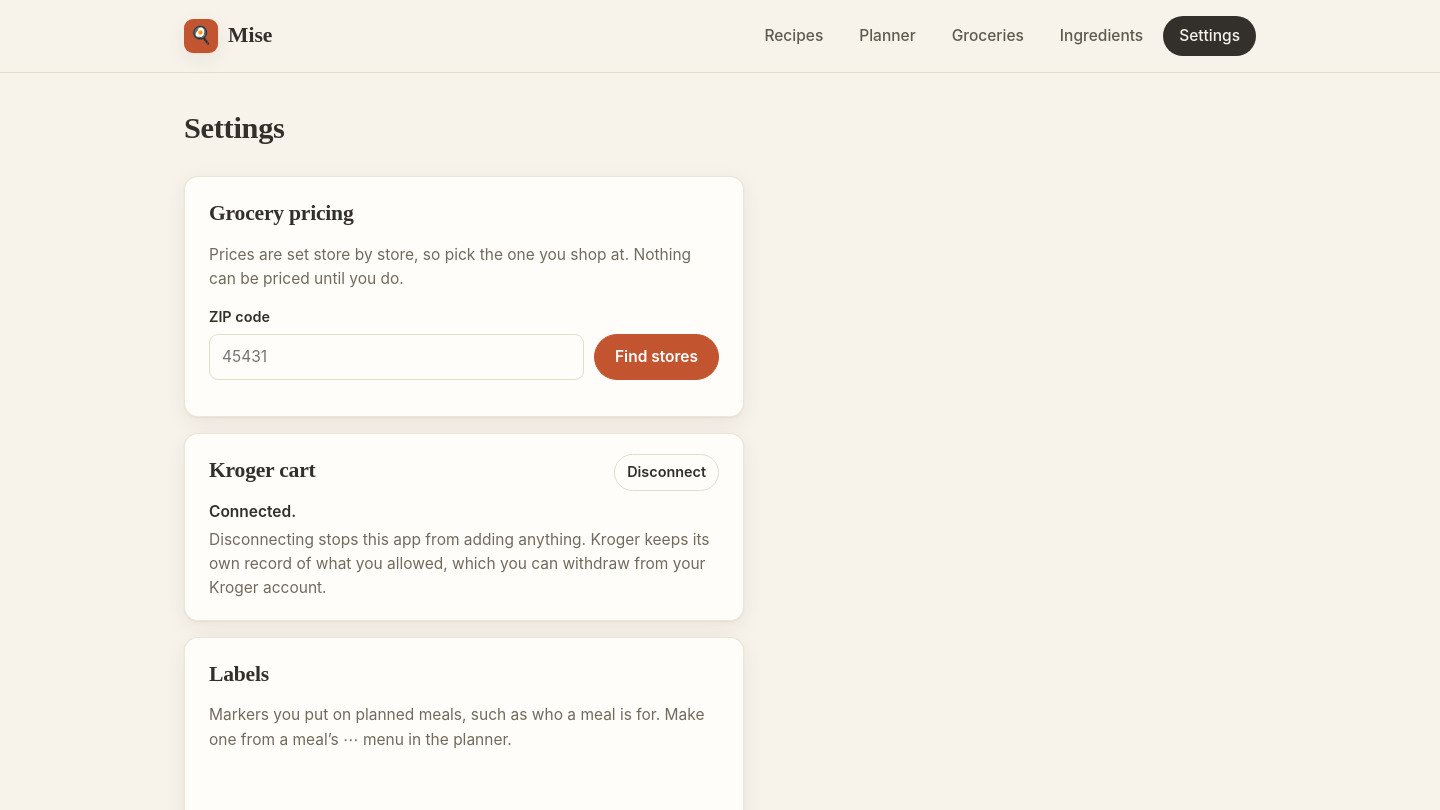
Test: connecting a Kroger cart › forgets the connection and puts the sign-in back
What coordinates should you click on to do the following:
click the button "Disconnect"
I would click on:
 (667, 473)
Its box is [614, 454, 719, 491].
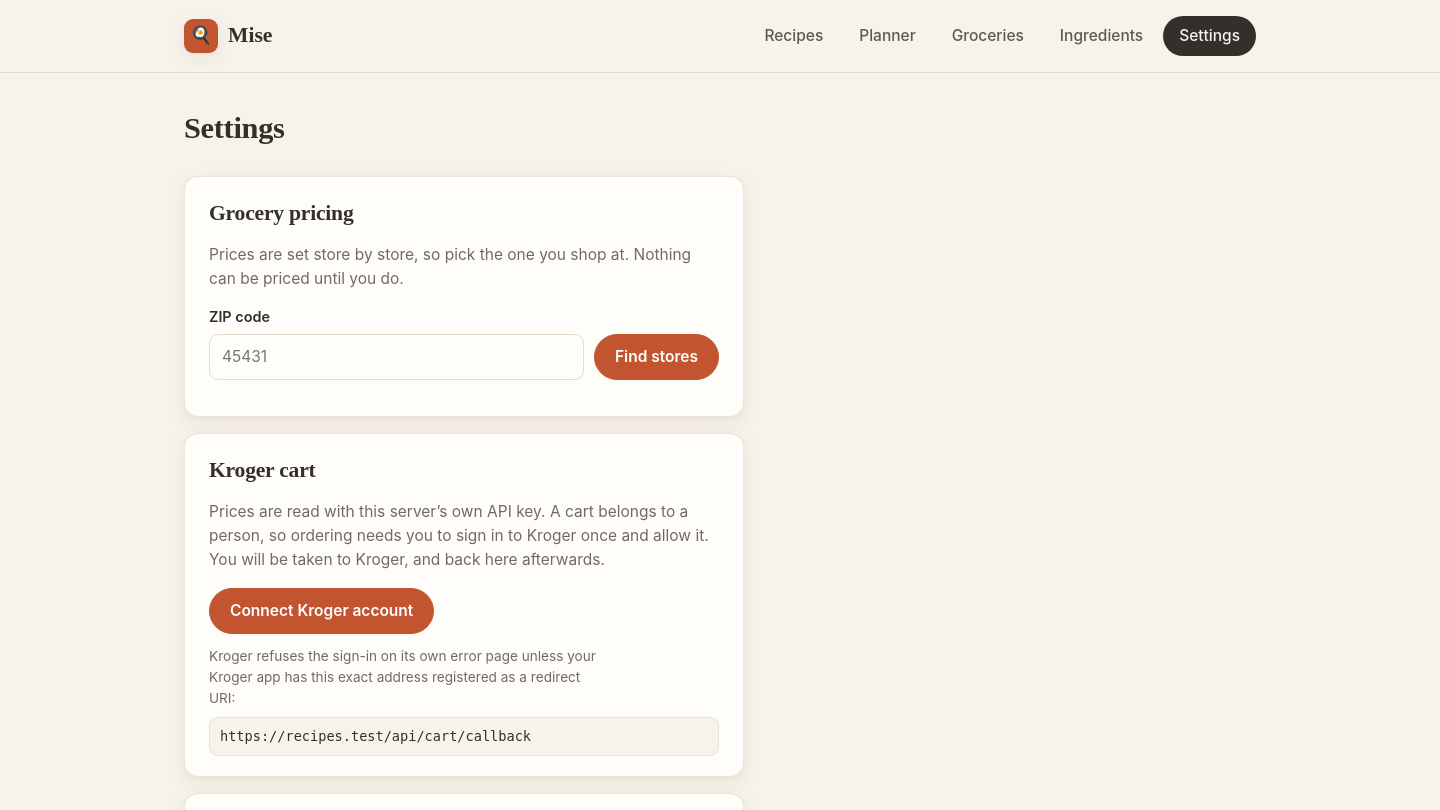
Result: the button "Connect Kroger account" is shown at [209, 588, 434, 634]
